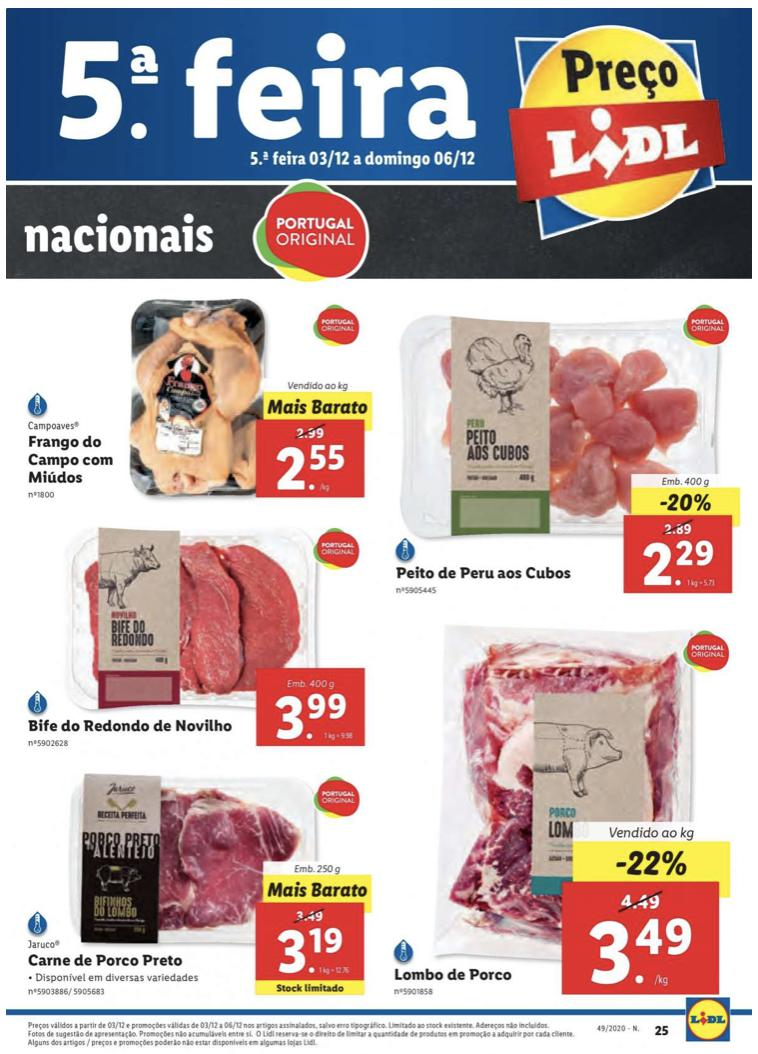name: (24, 433, 123, 489), (25, 716, 234, 737), (393, 562, 577, 583), (25, 950, 189, 971), (392, 965, 517, 985)
price: (585, 914, 697, 991), (640, 536, 719, 592), (272, 688, 353, 742), (276, 441, 353, 496), (275, 924, 349, 979)
product: (381, 606, 747, 1013), (386, 285, 745, 597), (10, 514, 376, 759), (12, 766, 381, 1002), (15, 281, 382, 511)
promotion: (612, 849, 690, 878), (655, 492, 716, 515)
